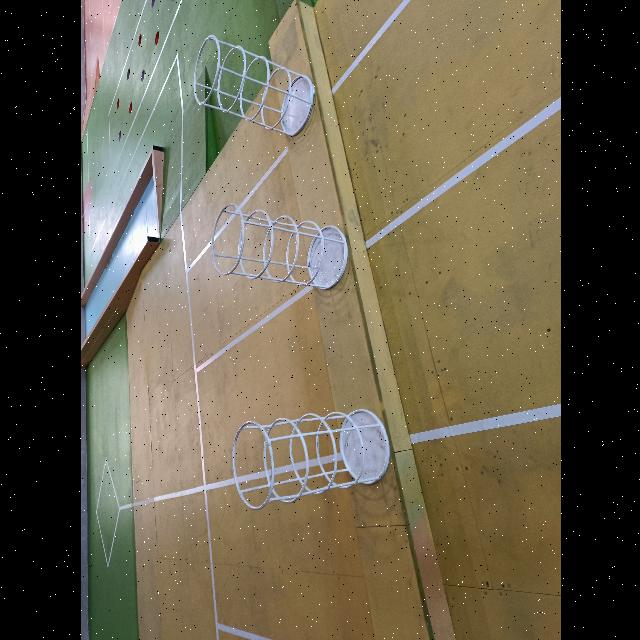S: (231, 407, 393, 509), (210, 202, 349, 292), (192, 35, 315, 136)
